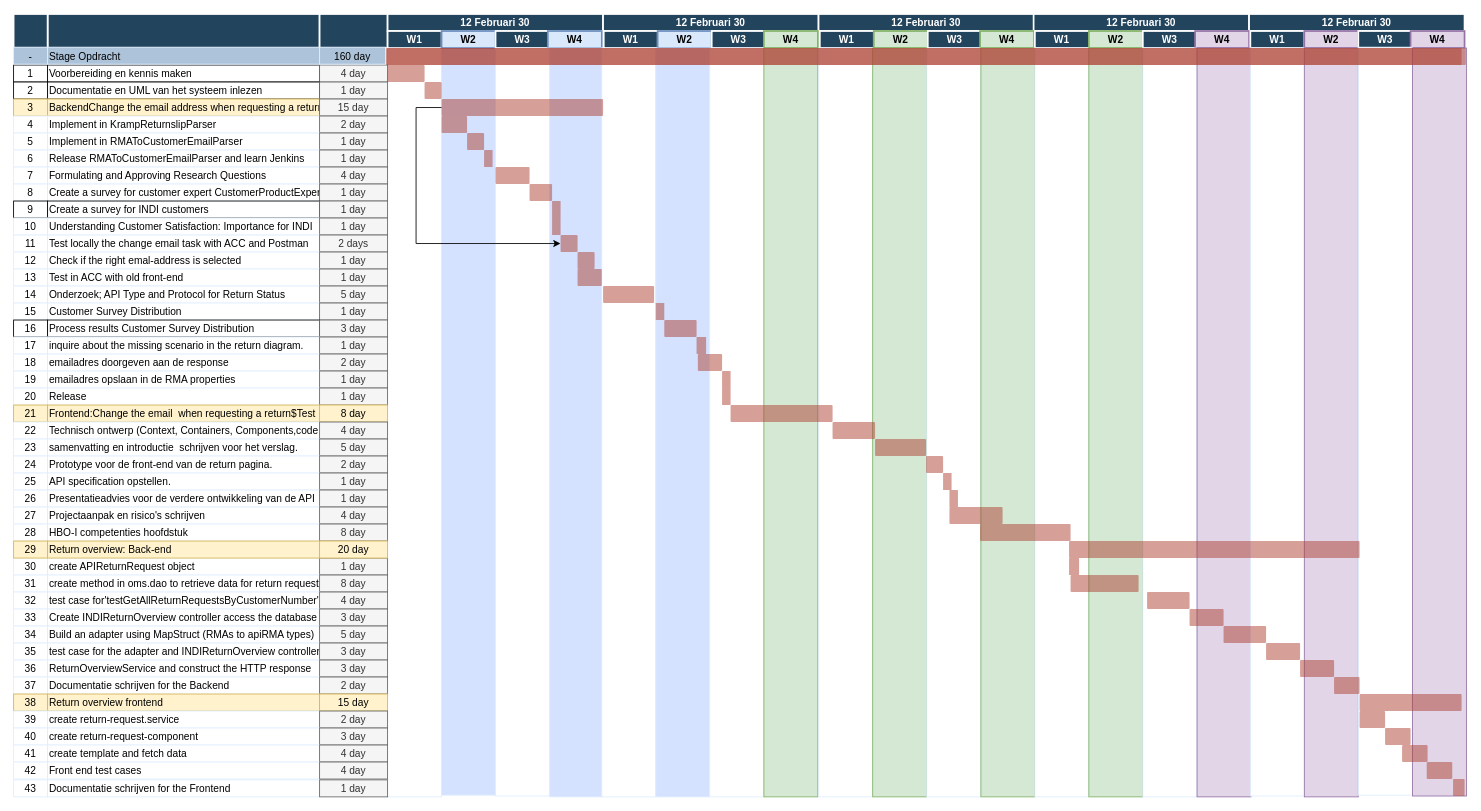
This 1481x811 diagram has some shape labels left out. Each missing label, with the centre of its shape:
Duration: point 353,30
Task Name: point 183,30
